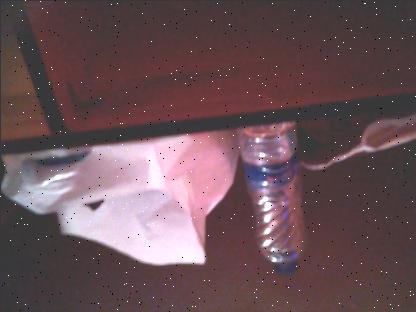Plastic Bottle: (235, 119, 305, 275)
